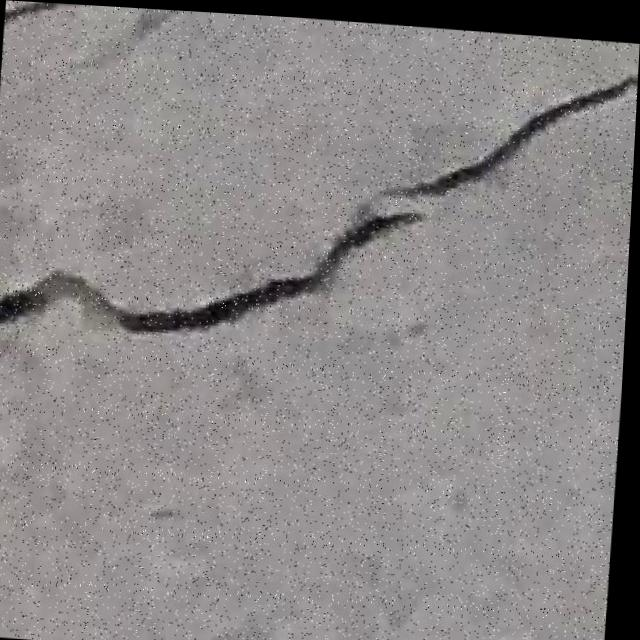Crack: (0, 18, 639, 393)
